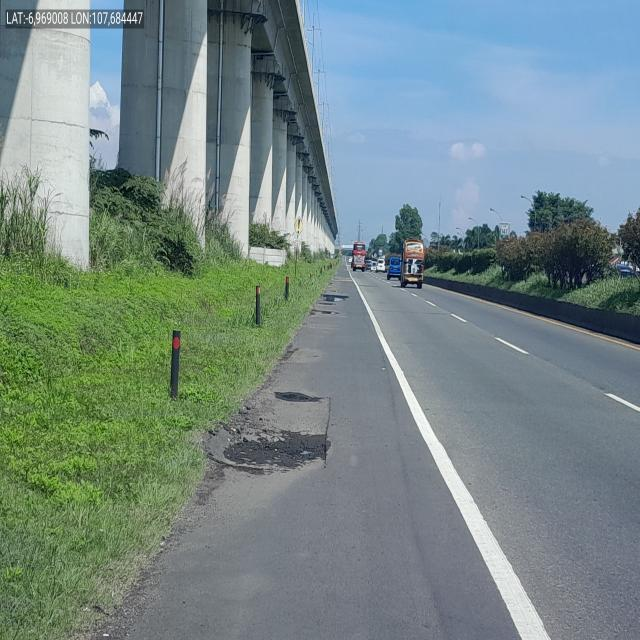Buraco: (204, 419, 334, 473), (272, 390, 326, 405), (316, 292, 352, 303), (308, 308, 342, 316), (316, 302, 338, 306)
